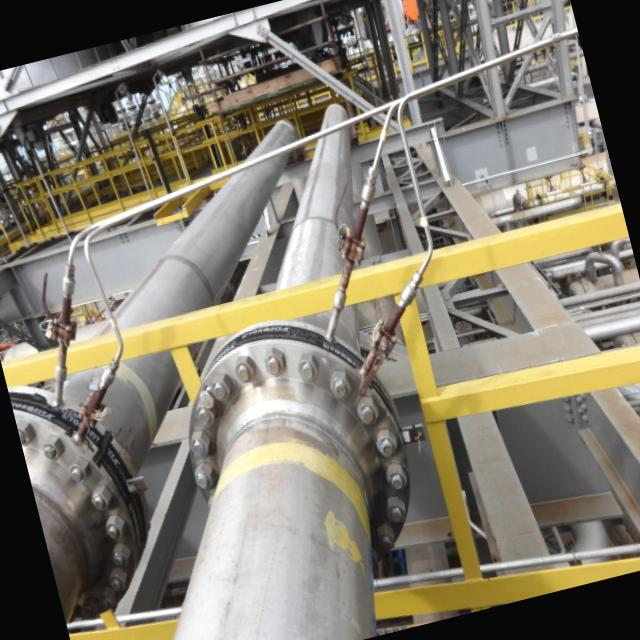gas: (21, 117, 293, 630), (173, 107, 374, 640)
